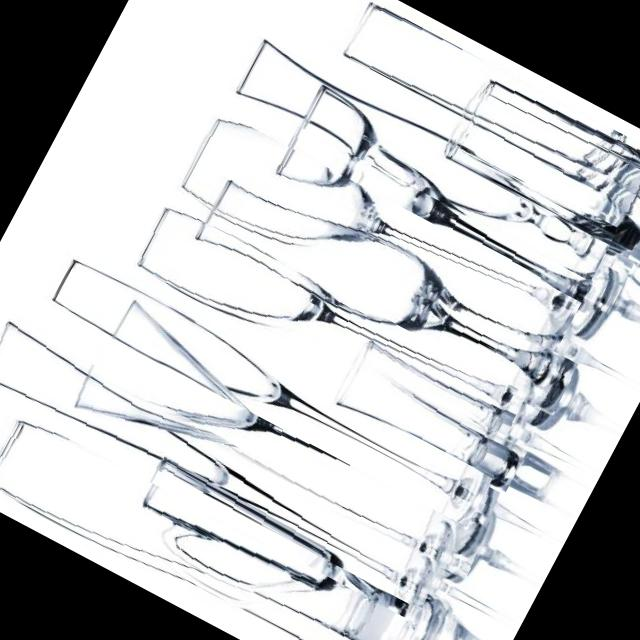Glass: (74, 296, 510, 604), (0, 316, 453, 610), (46, 252, 493, 526), (170, 107, 582, 386), (131, 201, 528, 458), (269, 82, 640, 351), (192, 177, 580, 433), (0, 408, 417, 640), (231, 36, 618, 280), (119, 448, 457, 640), (339, 0, 640, 208), (435, 77, 640, 257), (334, 352, 531, 491)
